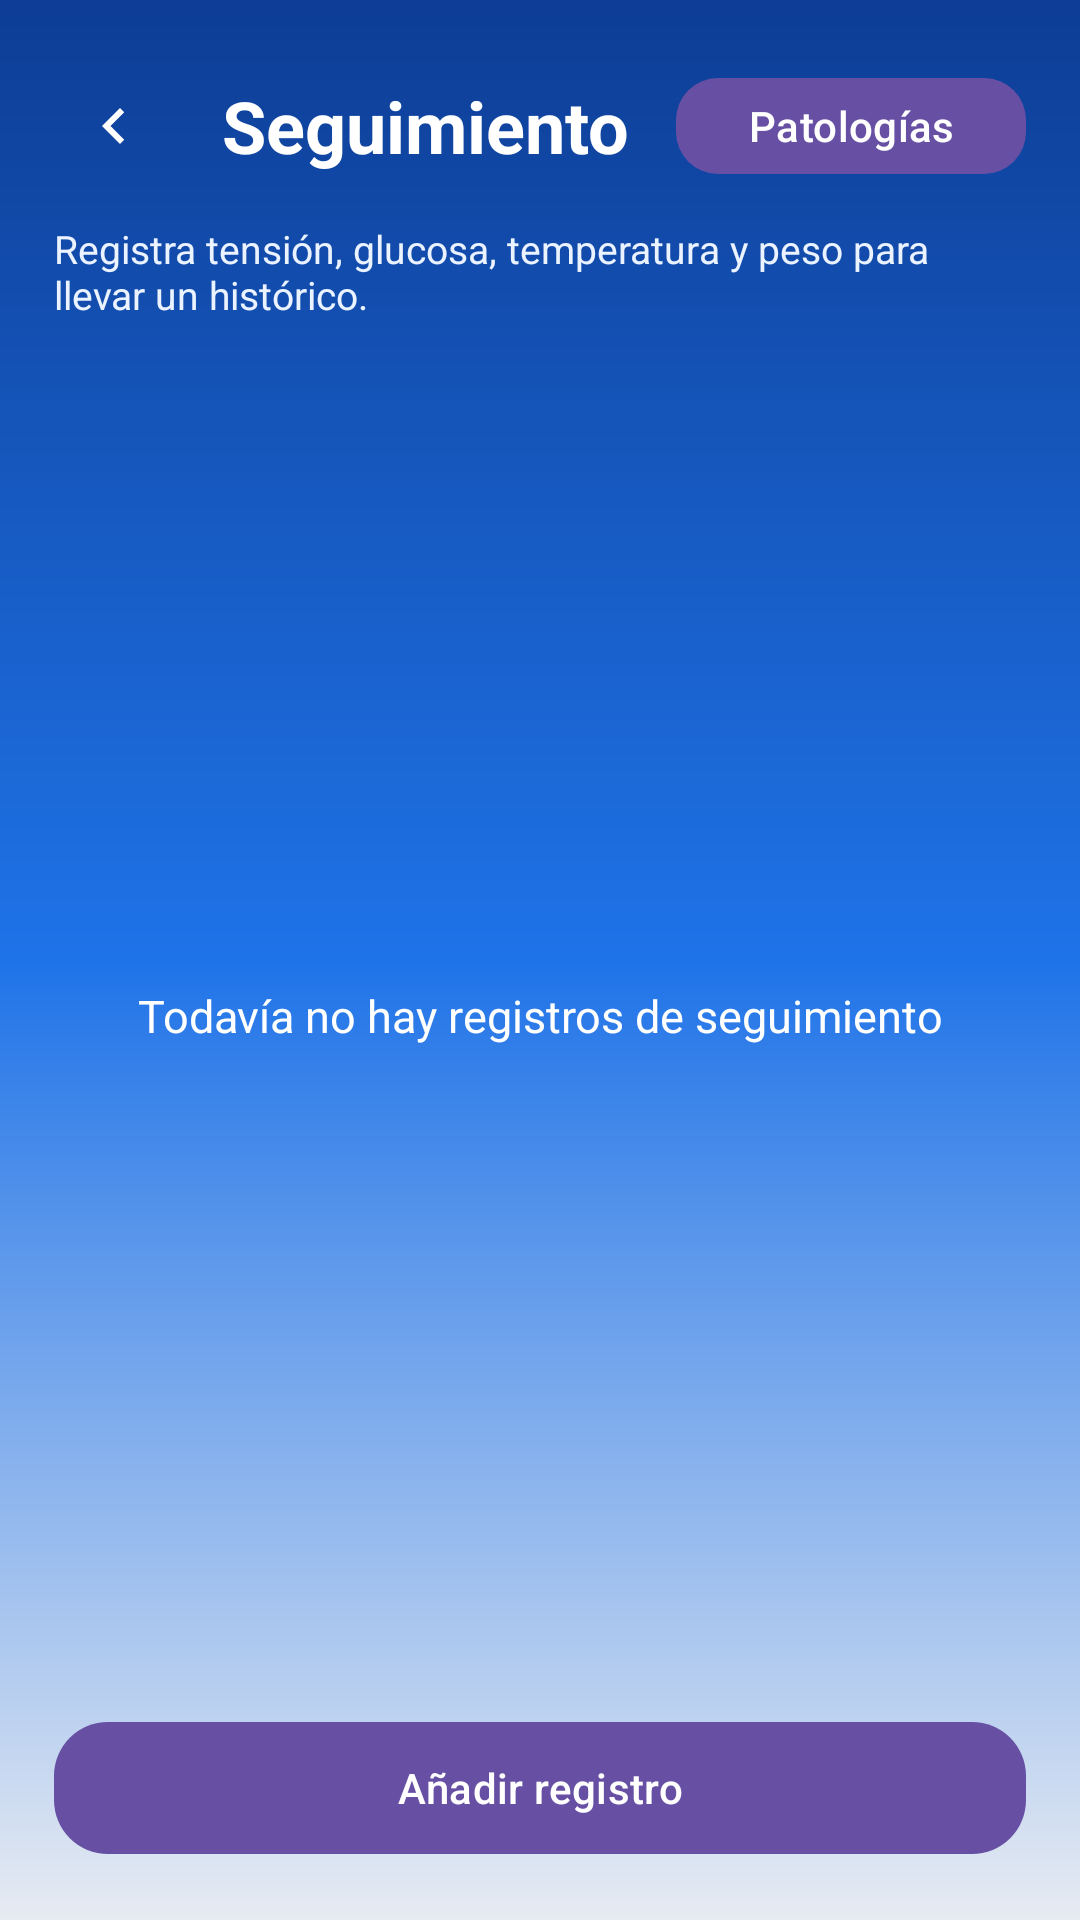

Icons on this 1080 x 1920 Android screen, each with the point to tap as (x,y):
Volver: (113,126)
